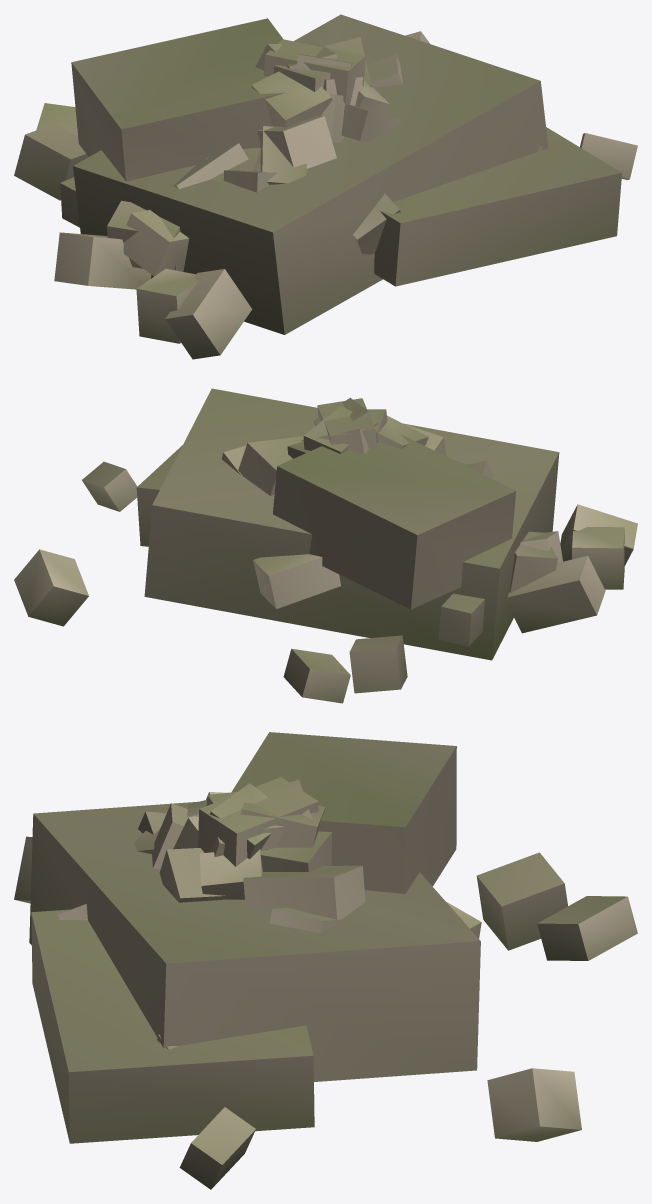
Rendered from dome_heap_mid.glb.
The picture shows the model from 3 angles, top to bottom: view 1: azimuth 30°, elevation 25°; view 2: azimuth 150°, elevation 25°; view 3: azimuth 270°, elevation 25°; orthographic projection. The views are drawn at different scales.
Parts seen in each view (by area): view 1: dome_heap_mid; view 2: dome_heap_mid; view 3: dome_heap_mid.
Part boxes in pixels (x1=…): dome_heap_mid: x1=14, y1=14, x2=637, y2=359; dome_heap_mid: x1=14, y1=388, x2=637, y2=703; dome_heap_mid: x1=14, y1=732, x2=637, y2=1189.
Bounding box in the file's own units: 28.67 × 9.6 × 22.79.
